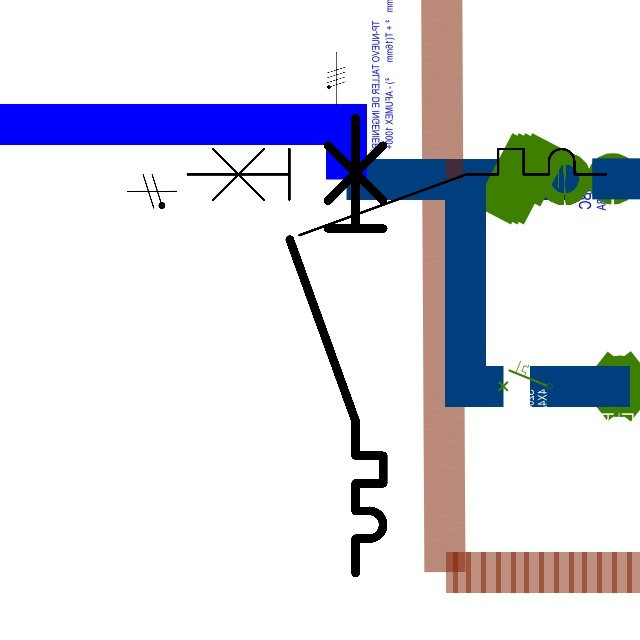interruptor_termomagnetico: (278, 106, 395, 584), (176, 138, 616, 246)
